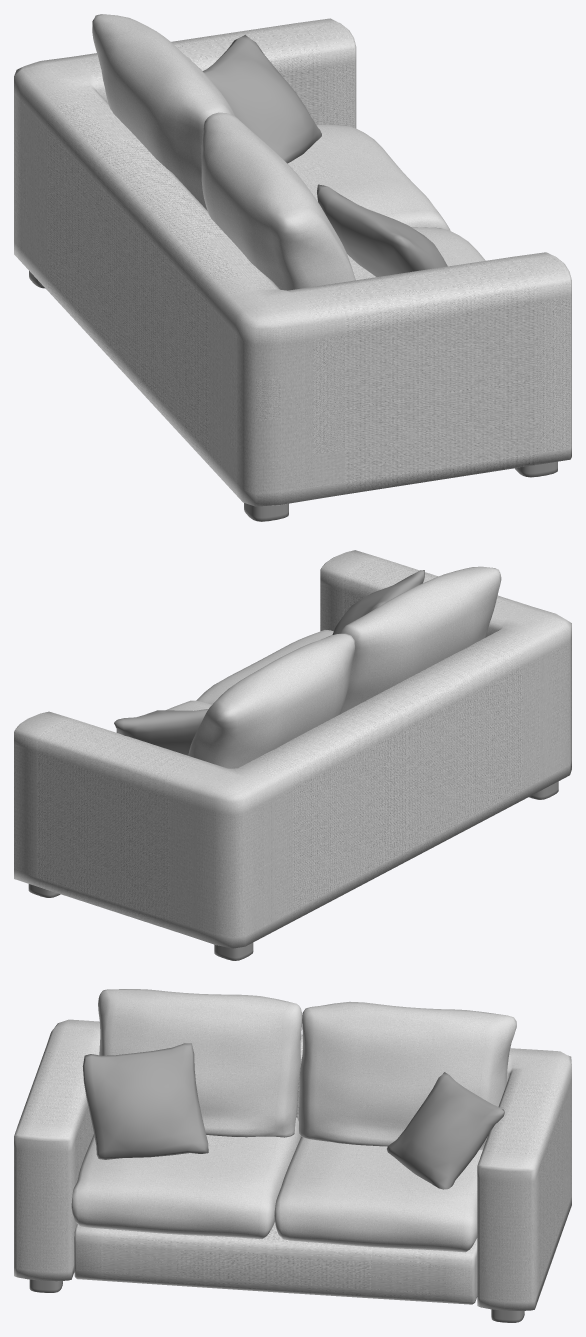
Rendered from couch.obj.
3 views of the same model, one above another, from view 1: azimuth 30°, elevation 25°; view 2: azimuth 150°, elevation 25°; view 3: azimuth 270°, elevation 25° (orthographic). The views are drawn at different scales.
Parts seen in each view (by area): view 1: bigcushion2.002_Cube.024; view 2: bigcushion2.002_Cube.024; view 3: bigcushion2.002_Cube.024.
Part boxes in pixels (x1,y1,x2,y2): bigcushion2.002_Cube.024: (14, 14, 571, 521); bigcushion2.002_Cube.024: (14, 550, 571, 960); bigcushion2.002_Cube.024: (14, 989, 571, 1322).
Bounding box in the file's own units: 4.46 × 3.16 × 7.13.
